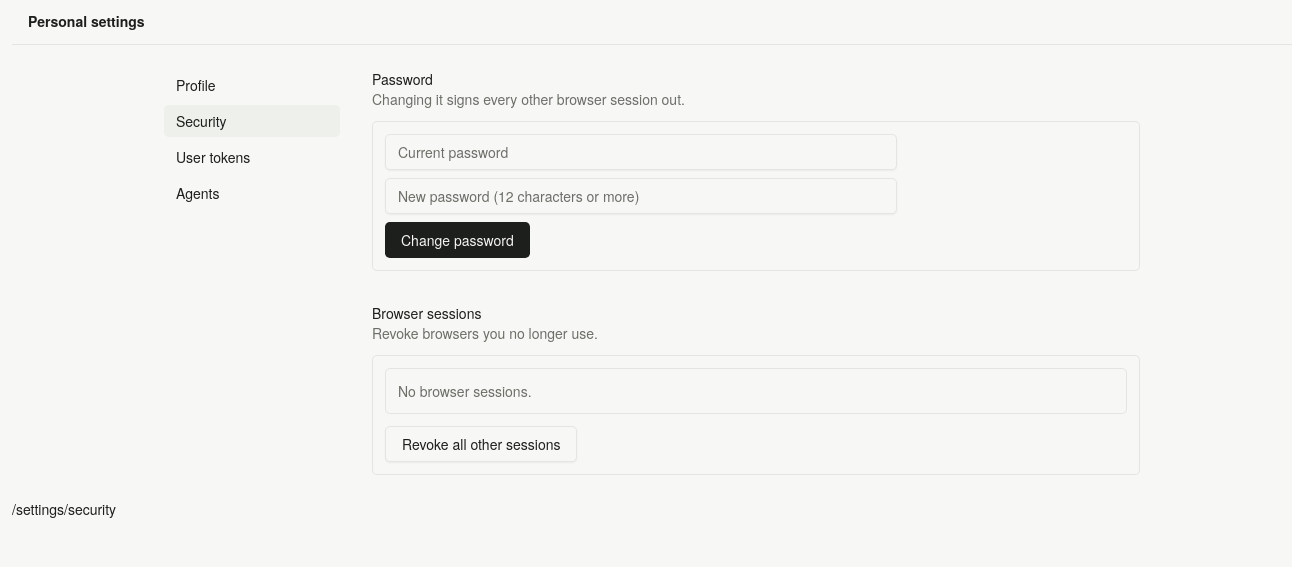
Test case: says a wrong current password in the field's words and stays signed in
Type "not the password at all" into the password field labelled "Current password" at x=641, y=152, box [385,134,897,170]
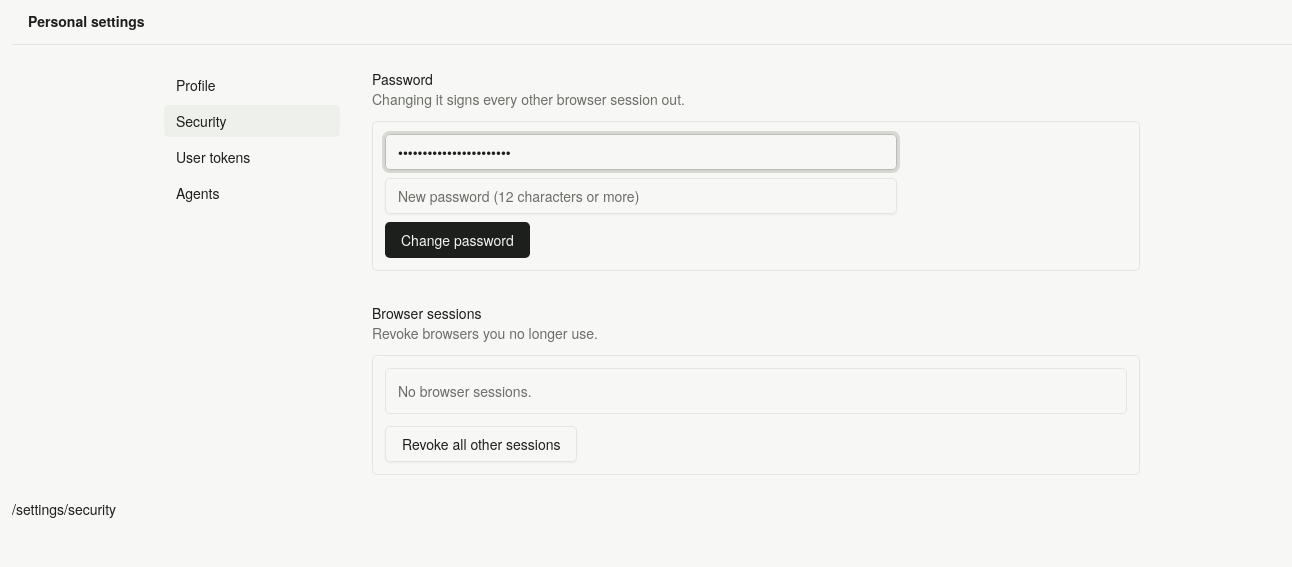
Type "a long second password" into the password field labelled "New password" at x=641, y=196, box [385,178,897,214]
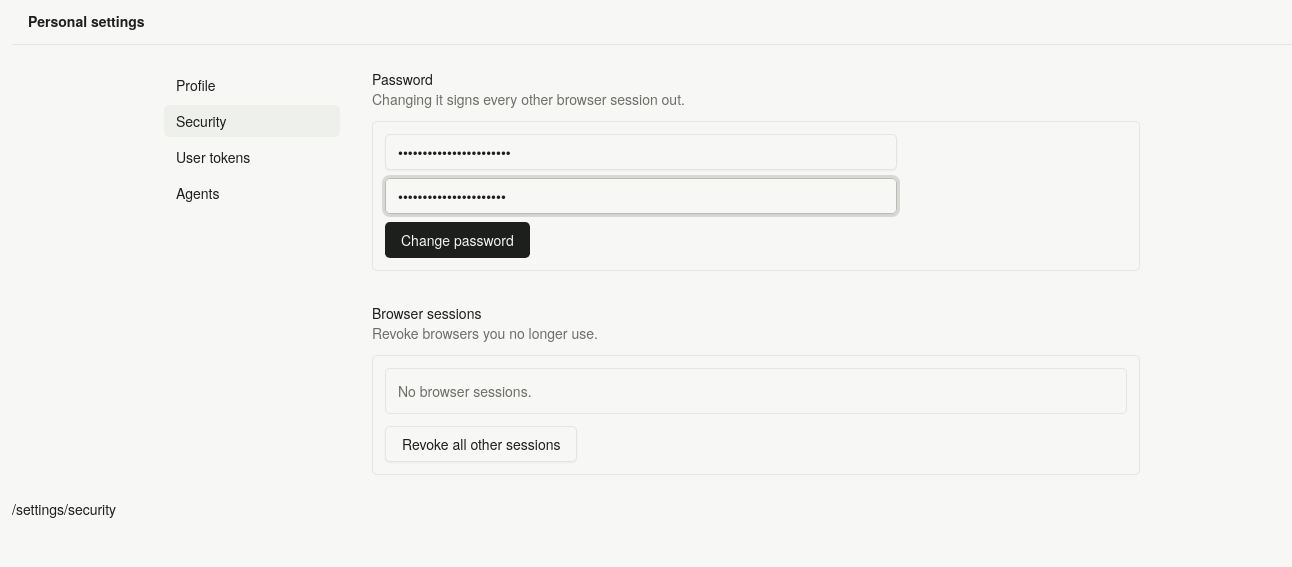
Click the button "Change password" at x=457, y=240, box [385,222,530,258]
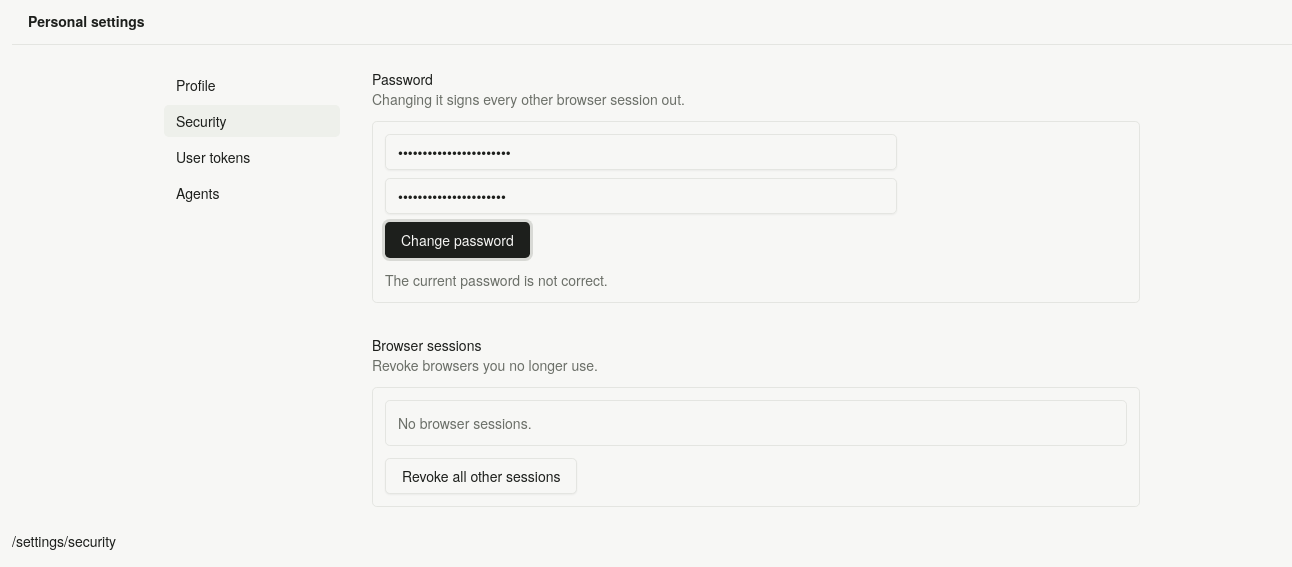
Expected: the text "The current password is not correct." is shown, [385,270,608,290]
